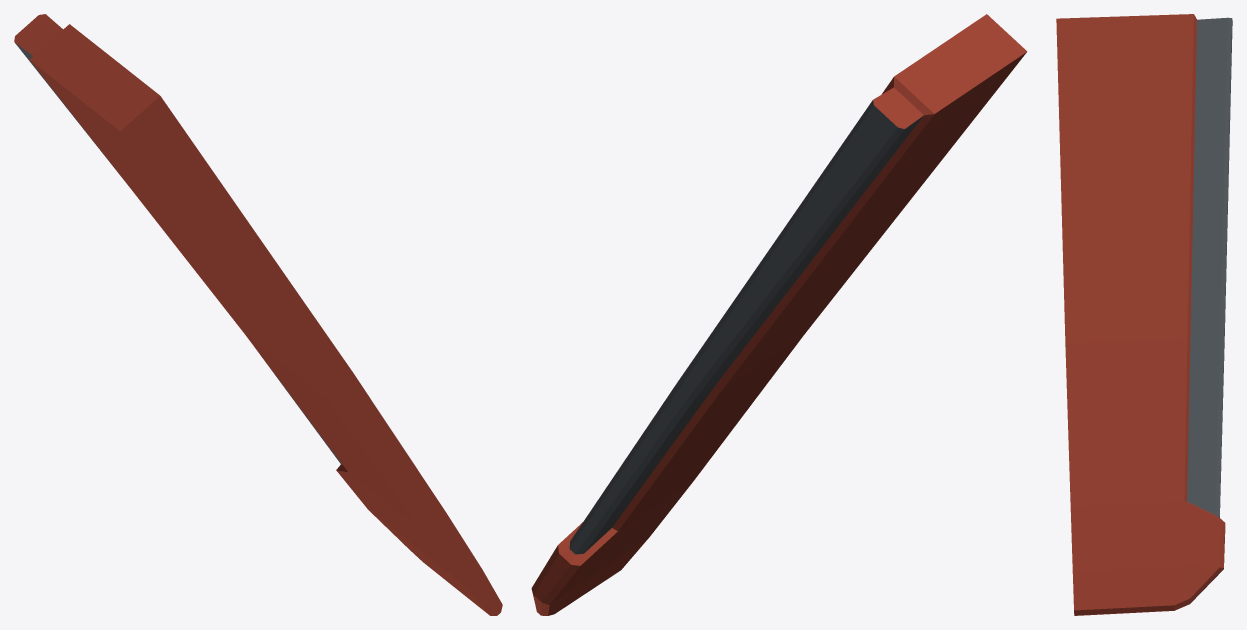
File: Fighter_06_Auxillary_Wing_Left_Red.fbx
The picture shows the model from 3 angles, left to right: view 1: azimuth 30°, elevation 25°; view 2: azimuth 150°, elevation 25°; view 3: azimuth 270°, elevation 25°; orthographic projection. The views are drawn at different scales.
Visible parts, largest first — view 1: Fighter_06_Auxillary_Wing_Left_Red; view 2: Fighter_06_Auxillary_Wing_Left_Red; view 3: Fighter_06_Auxillary_Wing_Left_Red.
Part boxes in pixels (x1,y1,x2,y2): Fighter_06_Auxillary_Wing_Left_Red: (14, 14, 502, 615); Fighter_06_Auxillary_Wing_Left_Red: (531, 14, 1027, 615); Fighter_06_Auxillary_Wing_Left_Red: (1056, 14, 1232, 615).
Bounding box in the file's own units: 276 × 414 × 140.
Materials: 1 (1 with a texture image).
